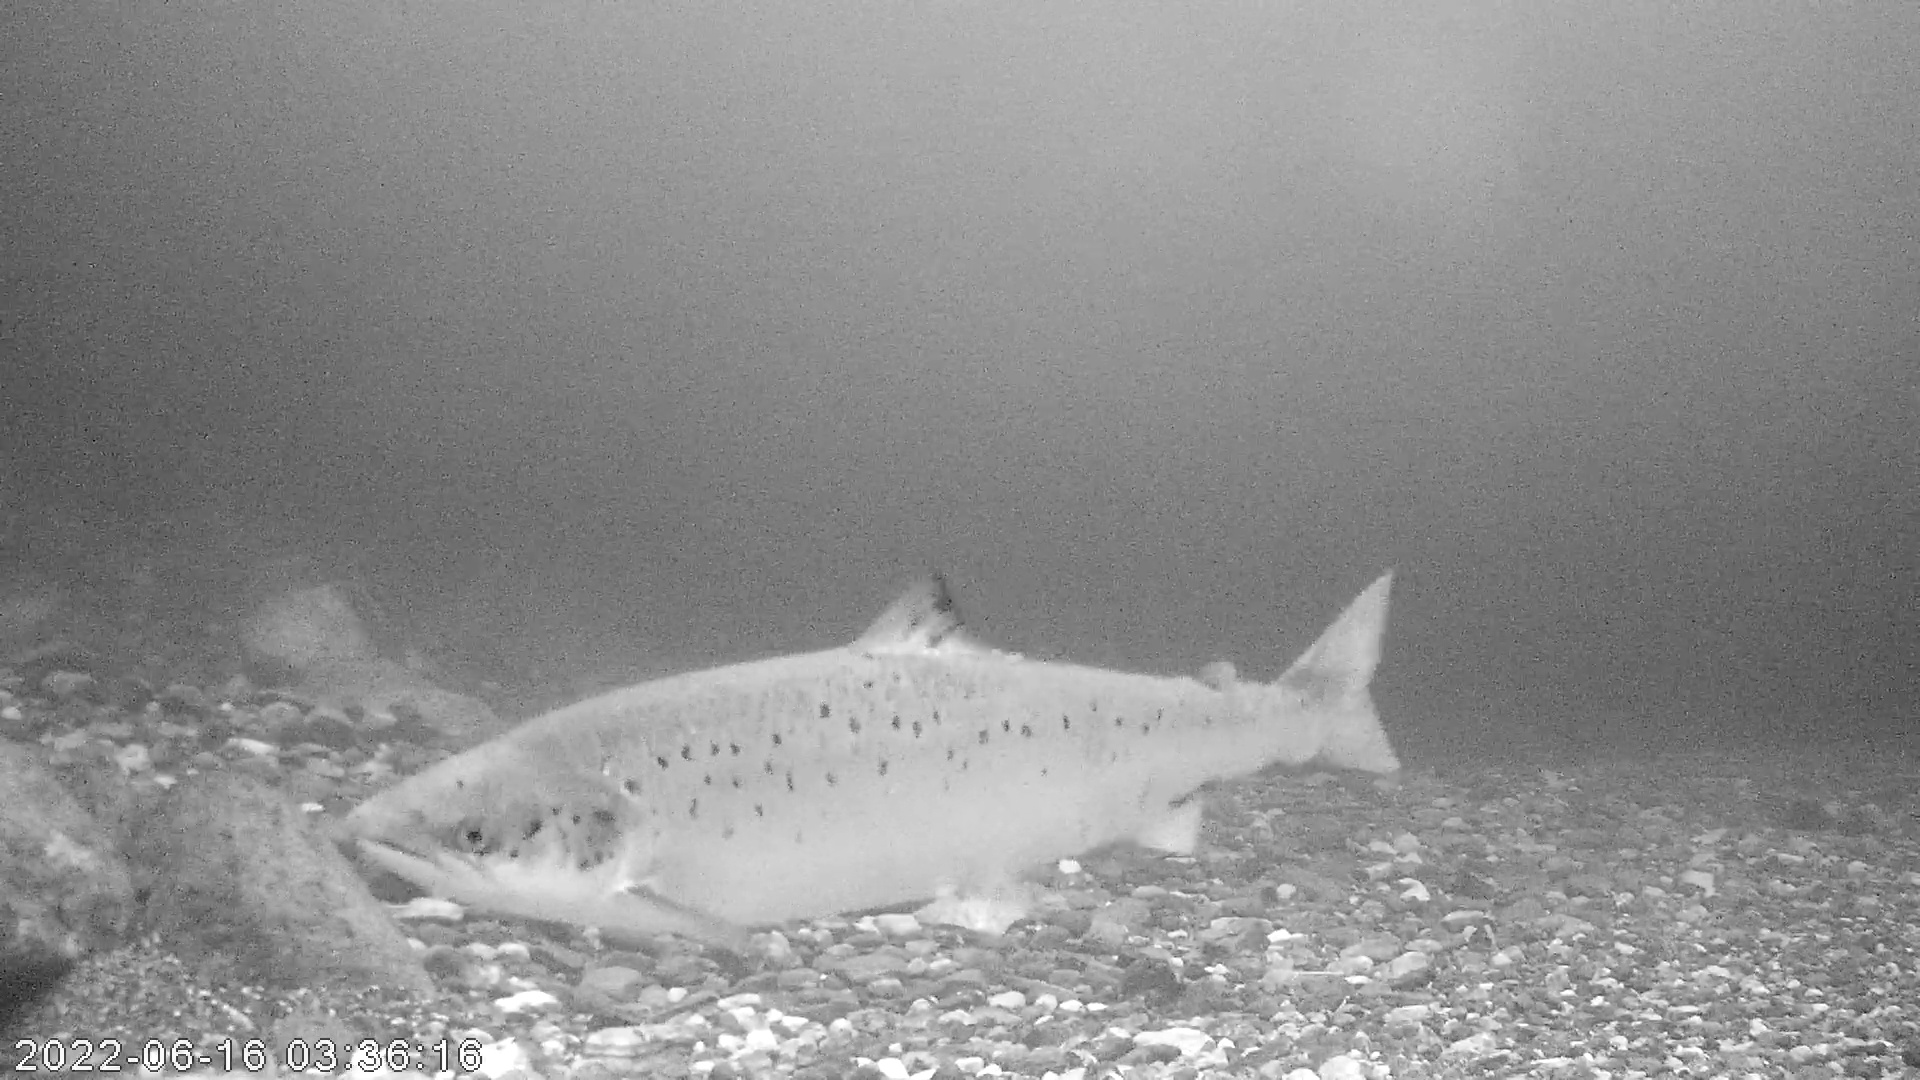salmon: (345, 571, 1404, 948)
